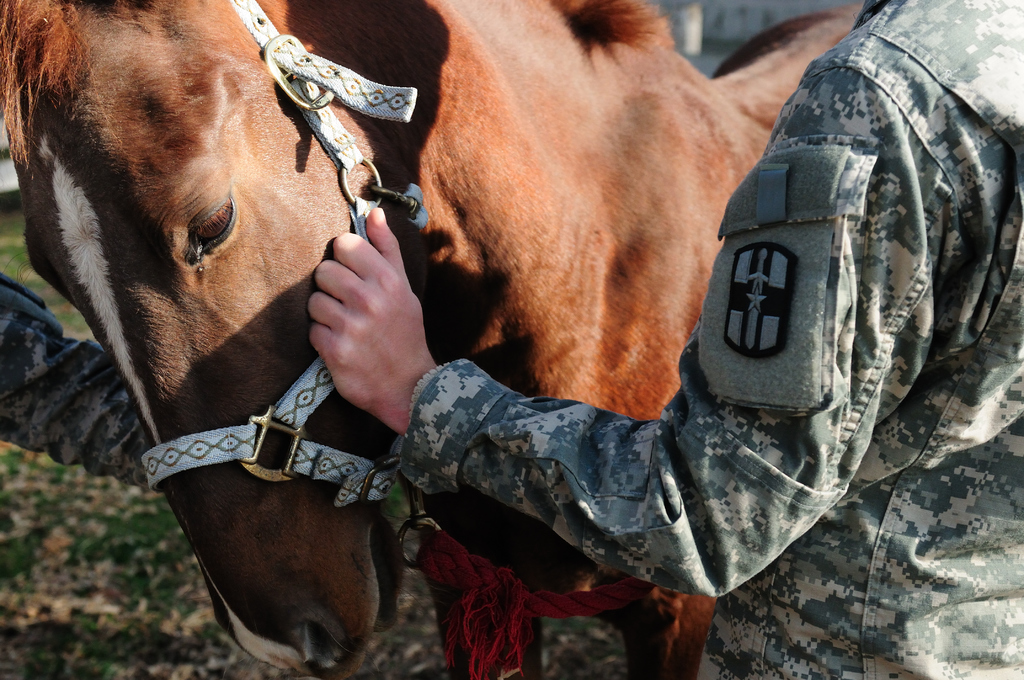Person: (307, 0, 1023, 680), (0, 264, 159, 496)
